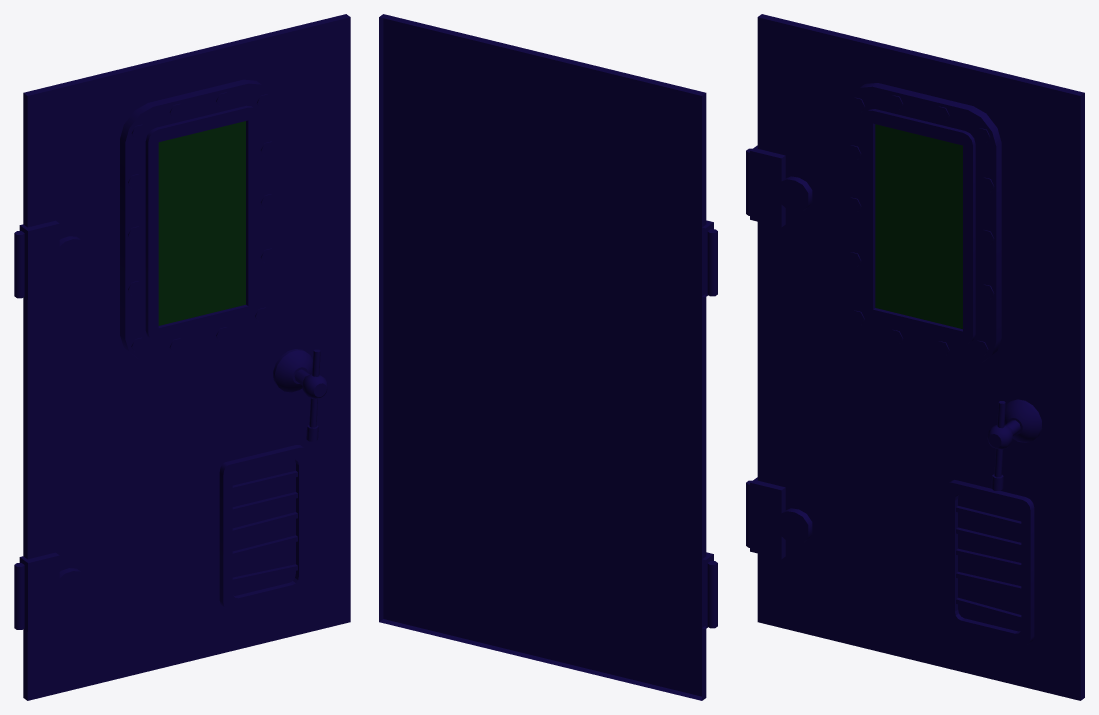
File: Door_Single_Metal_03.FBX
3 views of the same model, side by side, from view 1: azimuth 30°, elevation 25°; view 2: azimuth 150°, elevation 25°; view 3: azimuth 330°, elevation 25° (orthographic).
Visible parts, largest first — view 1: Door_Single_Metal_03_LOD0; view 2: Door_Single_Metal_03_LOD0; view 3: Door_Single_Metal_03_LOD0.
Boxes of the visible parts, box(x1,y1,x2,y2) form: Door_Single_Metal_03_LOD0: box(14, 14, 350, 700); Door_Single_Metal_03_LOD0: box(379, 14, 717, 700); Door_Single_Metal_03_LOD0: box(746, 14, 1084, 700).
Bounding box in the file's own units: 157 × 272 × 26.08.
